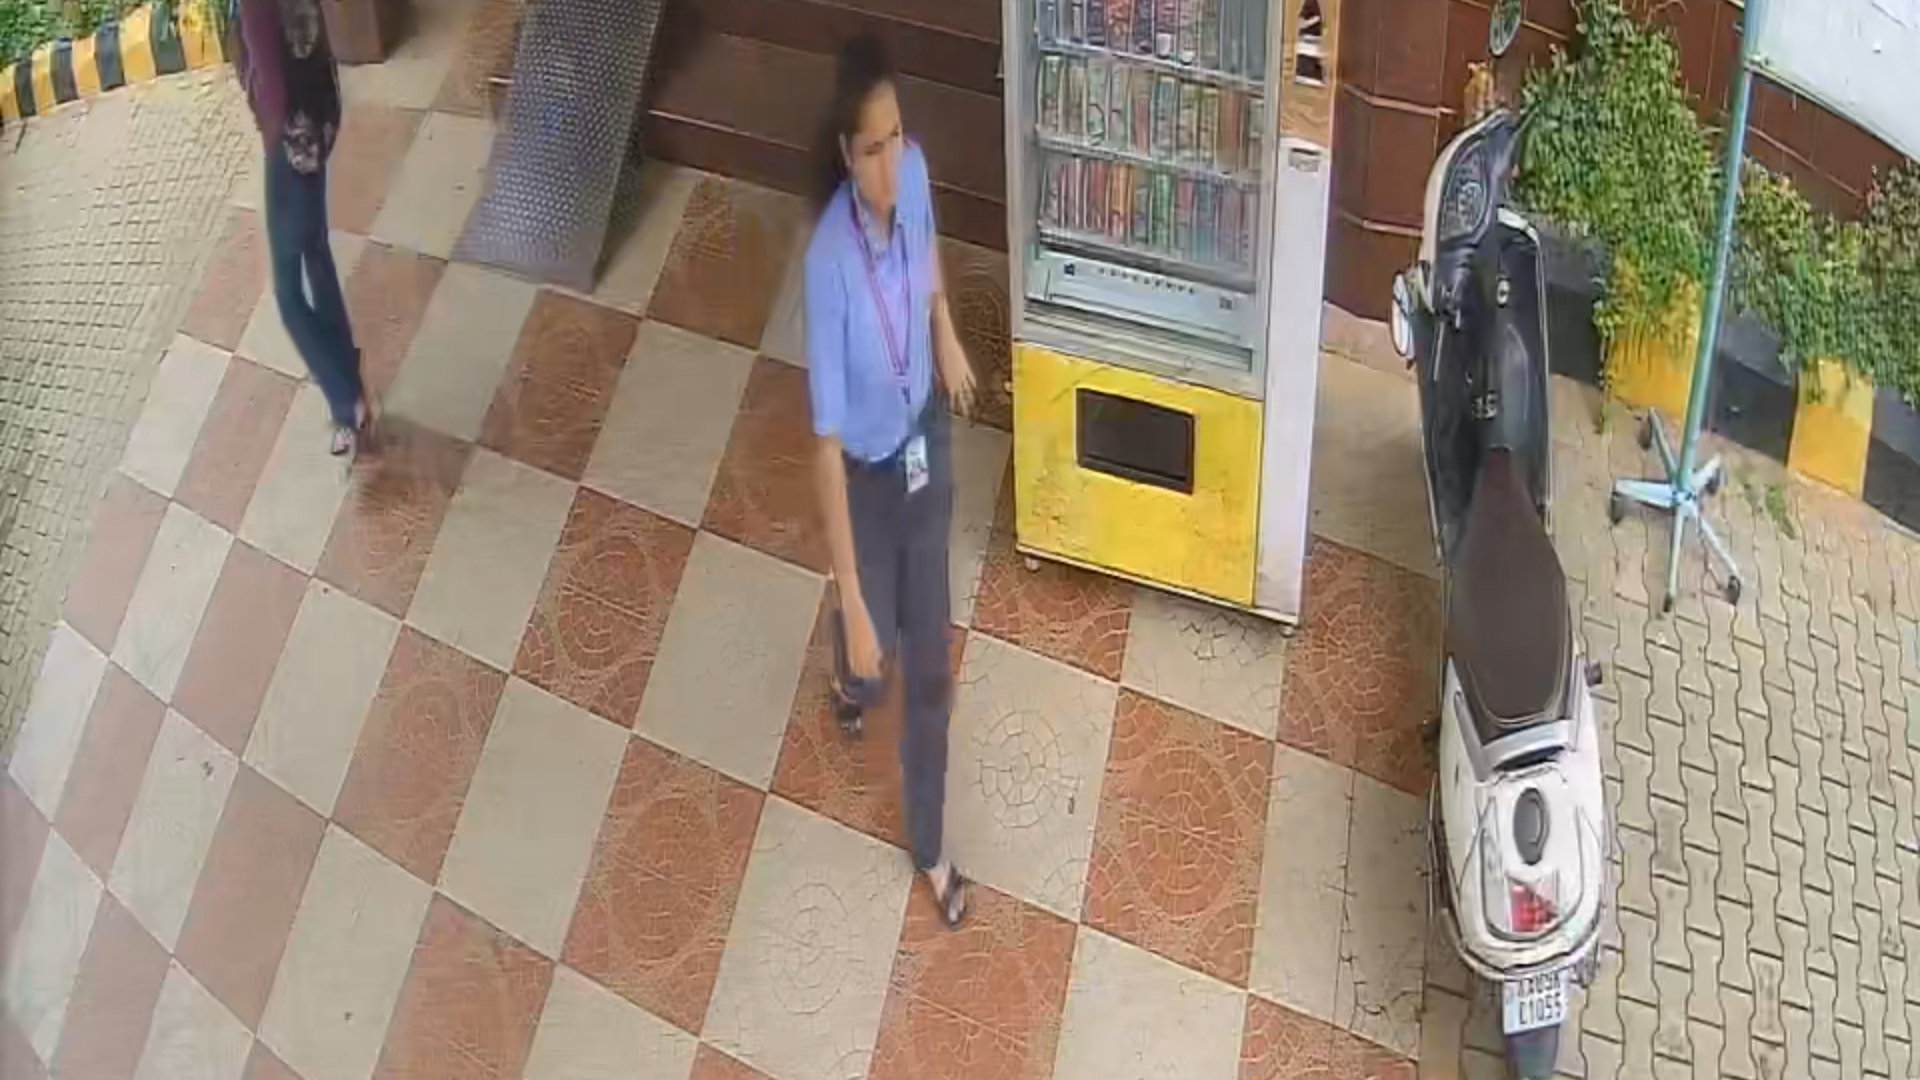not intruder: (795, 26, 1009, 942)
